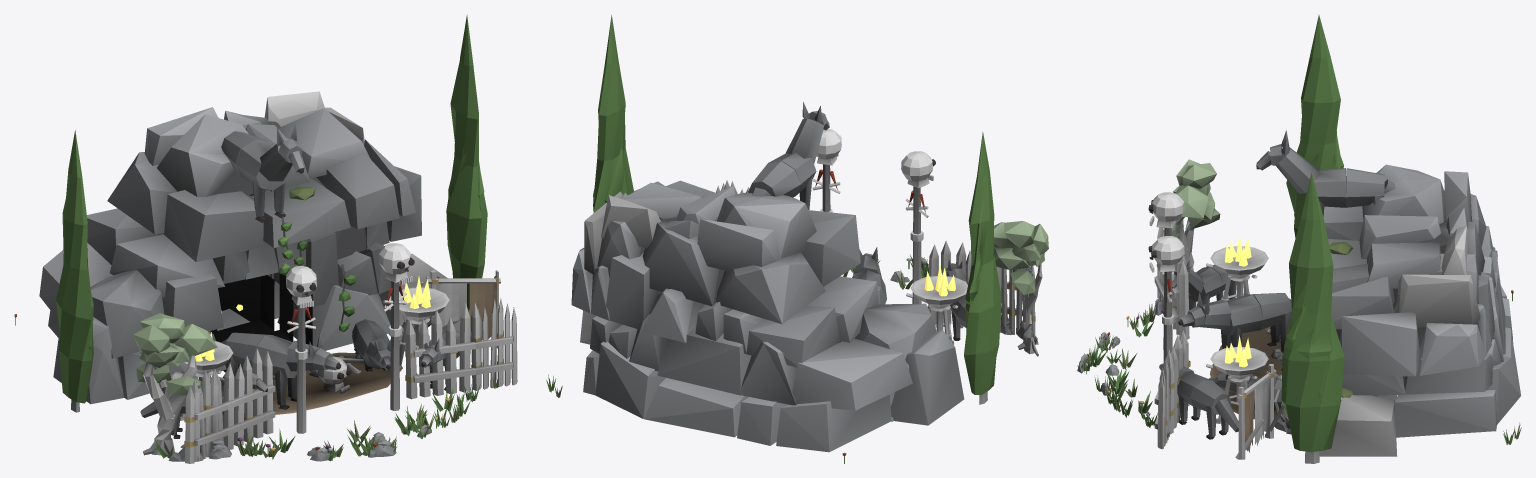
The model's file is wolf-den-l2.glb.
The picture shows the model from 3 angles, left to right: view 1: azimuth 30°, elevation 25°; view 2: azimuth 150°, elevation 25°; view 3: azimuth 270°, elevation 25°; orthographic projection. The views are drawn at different scales.
Visible parts, largest first — view 1: wolf-den-l2; view 2: wolf-den-l2; view 3: wolf-den-l2.
Boxes of the visible parts, x1,y1,x2,y2 form: wolf-den-l2: (14,15,517,463); wolf-den-l2: (546,15,1048,463); wolf-den-l2: (1077,15,1521,463).
Bounding box in the file's own units: 1.54 × 1.11 × 1.51.
